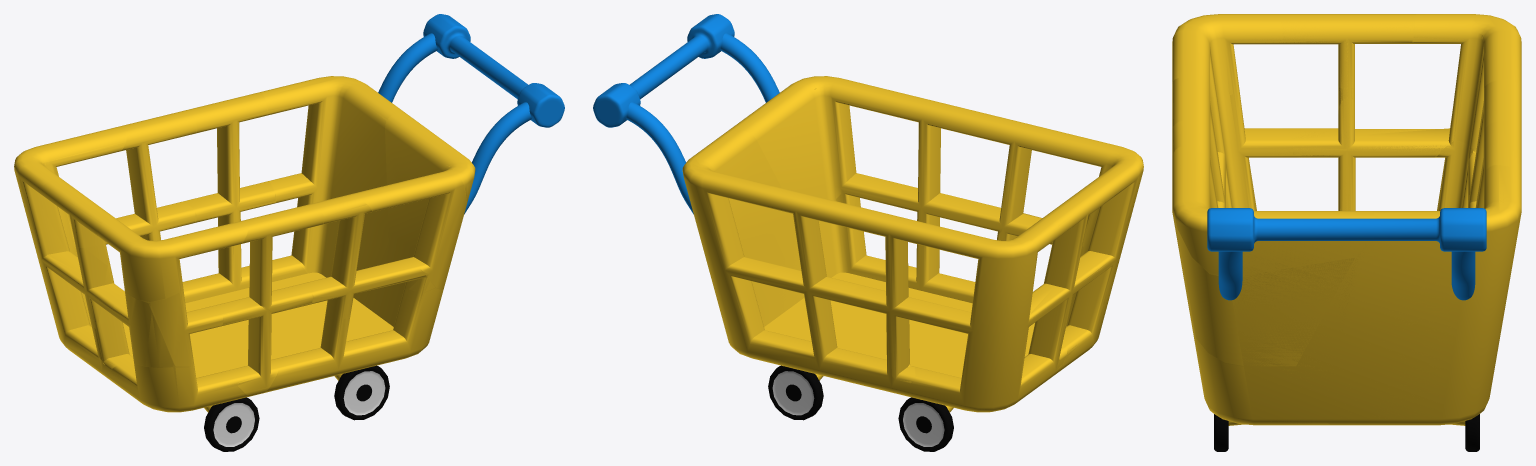
The model's file is CartCrash.fbx.
3 views of the same model, side by side, from view 1: azimuth 30°, elevation 25°; view 2: azimuth 150°, elevation 25°; view 3: azimuth 270°, elevation 25° (orthographic). The views are drawn at different scales.
Parts seen in each view (by area): view 1: Cube, Cube_cell.004, Tutacak, Cube_cell.014, Cube_cell, Cube_cell.019, Cube_cell.011, Tekerlekler, Cube_cell.017, Cube_cell.008, Cube_cell.007, Cube_cell.006 (+10 smaller); view 2: Cube, Cube_cell.004, Tutacak, Cube_cell, Tekerlekler, Cube_cell.017, Cube_cell.005, Cube_cell.011, Cube_cell.008, Cube_cell.014, Cube_cell.018, Cube_cell.007 (+4 smaller); view 3: Cube, Cube_cell.014, Tutacak, Cube_cell.002, Cube_cell.013, Cube_cell.018, Cube_cell.004, Cube_cell.019, Cube_cell.017, Cube_cell.001, Cube_cell.005, Cube_cell.010 (+7 smaller).
Part boxes in pixels (x1=…): Cube: x1=14, y1=76, x2=473, y2=405; Cube_cell.004: x1=263, y1=77, x2=404, y2=305; Tutacak: x1=378, y1=14, x2=564, y2=214; Cube_cell.014: x1=363, y1=129, x2=466, y2=289; Cube_cell: x1=182, y1=245, x2=357, y2=345; Cube_cell.019: x1=217, y1=288, x2=443, y2=393; Cube_cell.011: x1=184, y1=93, x2=275, y2=225; Tekerlekler: x1=204, y1=365, x2=389, y2=451; Cube_cell.017: x1=105, y1=110, x2=196, y2=244; Cube_cell.008: x1=310, y1=198, x2=435, y2=318; Cube_cell.007: x1=109, y1=364, x2=248, y2=412; Cube_cell.006: x1=97, y1=228, x2=247, y2=301; Cube: x1=682, y1=76, x2=1141, y2=412; Cube_cell.004: x1=687, y1=129, x2=802, y2=355; Tutacak: x1=593, y1=14, x2=779, y2=214; Cube_cell: x1=746, y1=302, x2=955, y2=367; Tekerlekler: x1=768, y1=365, x2=953, y2=451; Cube_cell.017: x1=839, y1=203, x2=971, y2=383; Cube_cell.005: x1=911, y1=325, x2=1062, y2=397; Cube_cell.011: x1=762, y1=186, x2=860, y2=314; Cube_cell.008: x1=819, y1=100, x2=972, y2=226; Cube_cell.014: x1=778, y1=77, x2=929, y2=198; Cube_cell.018: x1=1039, y1=180, x2=1113, y2=245; Cube_cell.007: x1=1027, y1=293, x2=1109, y2=370; Cube: x1=1172, y1=14, x2=1521, y2=425; Cube_cell.014: x1=1172, y1=147, x2=1354, y2=366; Tutacak: x1=1207, y1=208, x2=1486, y2=300; Cube_cell.002: x1=1413, y1=14, x2=1484, y2=148; Cube_cell.013: x1=1293, y1=98, x2=1449, y2=210; Cube_cell.018: x1=1280, y1=14, x2=1415, y2=88; Cube_cell.004: x1=1298, y1=165, x2=1510, y2=425; Cube_cell.019: x1=1192, y1=330, x2=1329, y2=425; Cube_cell.017: x1=1468, y1=80, x2=1512, y2=207; Cube_cell.001: x1=1175, y1=205, x2=1359, y2=274; Cube_cell.005: x1=1434, y1=141, x2=1474, y2=210; Cube_cell.010: x1=1474, y1=14, x2=1510, y2=85.
Bounding box in the file's own units: 162 × 99.37 × 90.01.
